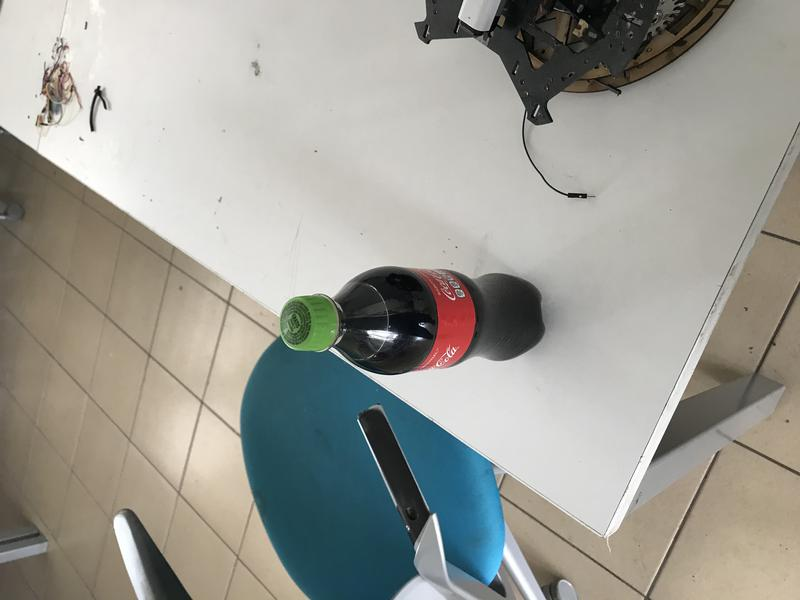coca_cola: (278, 266, 546, 376)
